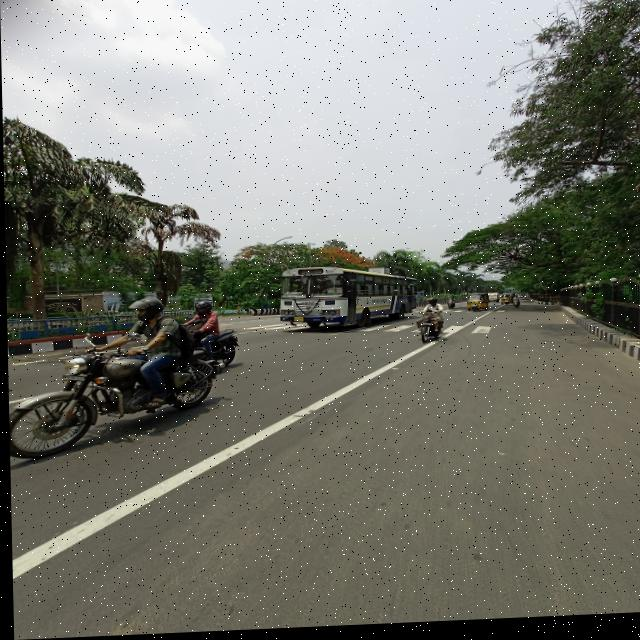bike: (6, 336, 251, 461), (413, 318, 447, 349), (510, 303, 521, 313), (445, 302, 454, 314)
bus: (271, 261, 426, 336)
